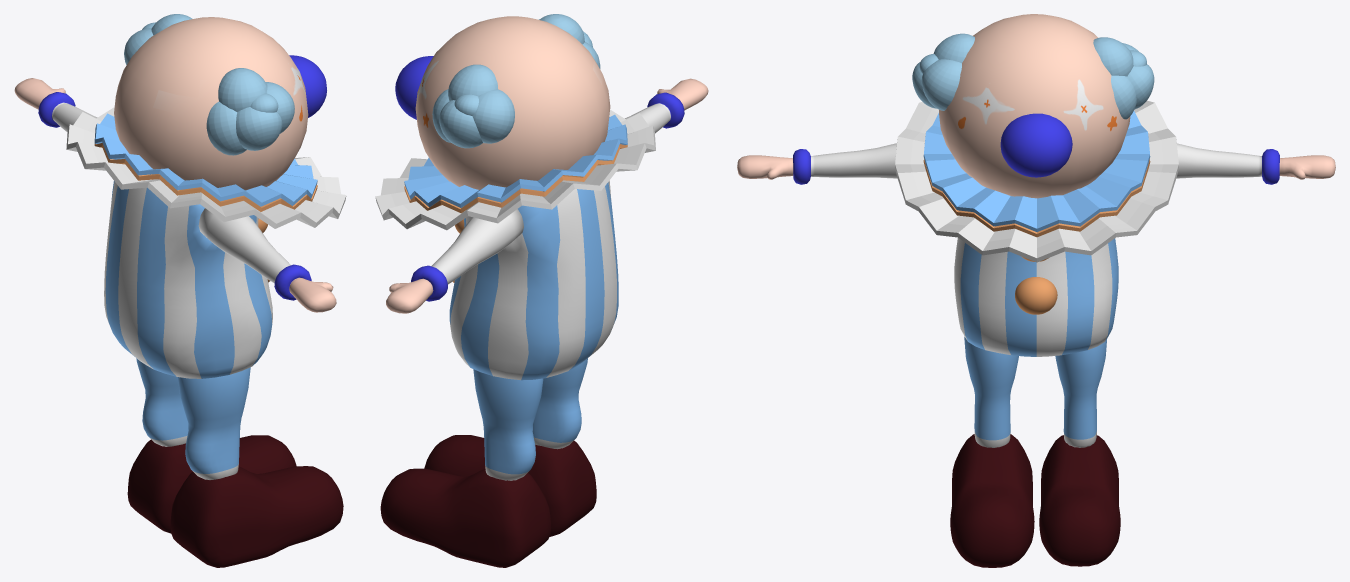
The model's file is Clown_Blue.fbx.
The picture shows the model from 3 angles, left to right: view 1: azimuth 30°, elevation 25°; view 2: azimuth 150°, elevation 25°; view 3: azimuth 270°, elevation 25°; orthographic projection.
Parts seen in each view (by area): view 1: Legs.001, Body.001, Sphere.002, Arms.001, Circle, Sphere.006, Circle.002, Circle.001, Sphere.003, Sphere.009; view 2: Legs.001, Body.001, Sphere.002, Arms.001, Circle, Sphere.009, Circle.002, Circle.001, Sphere.003, Sphere.006; view 3: Legs.001, Sphere.002, Body.001, Circle, Circle.002, Arms.001, Sphere.003, Sphere.009, Sphere.006, Circle.001, Sphere.005.
Boxes of the visible parts, x1,y1,x2,y2 form: Legs.001: (127,358,343,567); Body.001: (104,181,272,378); Sphere.002: (114,17,308,190); Arms.001: (14,78,336,312); Circle: (66,107,346,228); Sphere.006: (206,68,294,155); Circle.002: (94,113,317,206); Circle.001: (94,143,317,211); Sphere.003: (289,55,326,117); Sphere.009: (124,14,192,64); Legs.001: (380,358,596,567); Body.001: (449,180,618,380); Sphere.002: (415,16,610,189); Arms.001: (386,78,708,313); Circle: (375,109,655,230); Sphere.009: (432,64,514,148); Circle.002: (404,114,627,207); Circle.001: (404,144,627,213); Sphere.003: (395,56,433,119); Sphere.006: (539,14,600,68); Legs.001: (950,336,1120,567); Sphere.002: (939,14,1130,198); Body.001: (954,238,1118,356); Circle: (895,100,1178,262); Circle.002: (923,111,1150,231); Arms.001: (737,143,1335,184); Sphere.003: (1000,113,1072,177); Sphere.009: (1093,37,1154,119); Sphere.006: (912,33,974,110); Circle.001: (923,159,1150,237); Sphere.005: (1015,277,1057,314).
Size of the model in its own units: 194 by 422 by 392.
